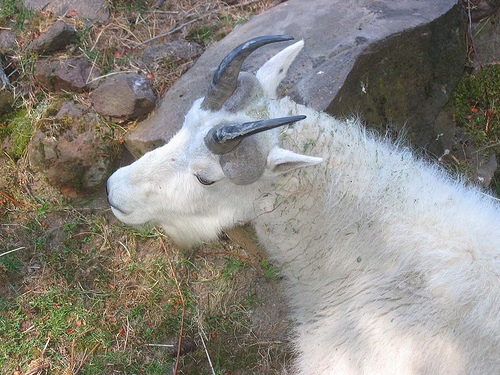goat: (104, 33, 500, 375)
